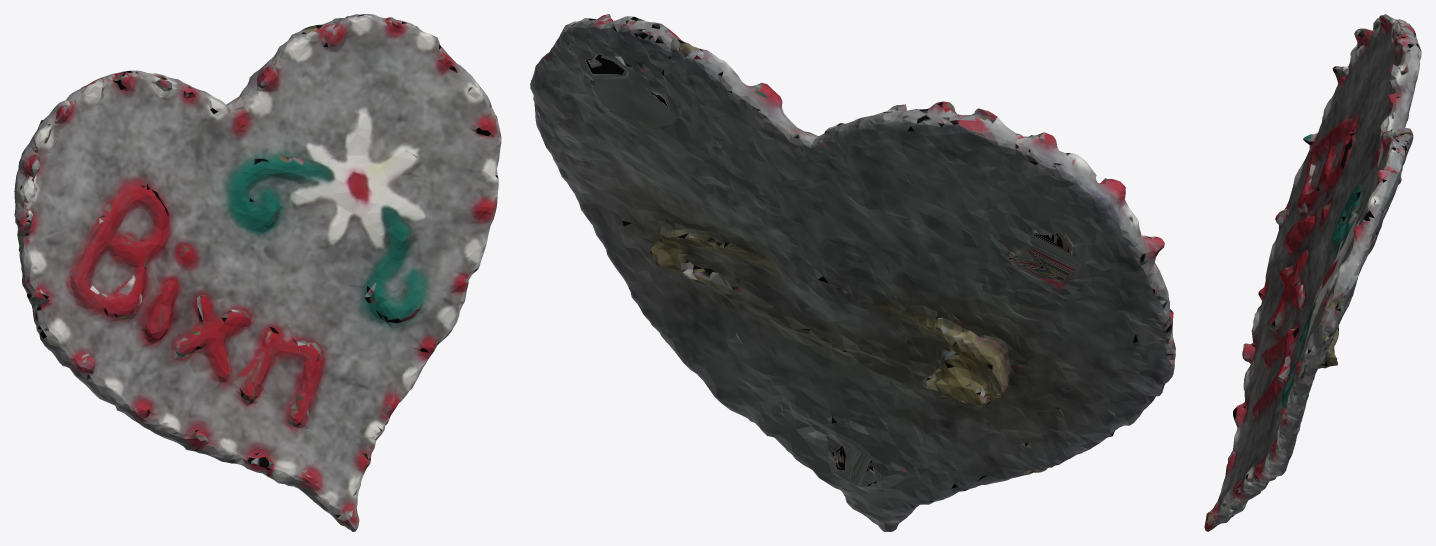
File: D245F8C1-1FE3-3545-A86A-FEE1E8B29CF0_2k.glb
3 renders of one model, left to right at view 1: azimuth 30°, elevation 25°; view 2: azimuth 150°, elevation 25°; view 3: azimuth 270°, elevation 25°, orthographic. The views are drawn at different scales.
Visible parts, largest first — view 1: Filzherz_2k; view 2: Filzherz_2k; view 3: Filzherz_2k.
Boxes of the visible parts, x1,y1,x2,y2 form: Filzherz_2k: (14, 14, 501, 531); Filzherz_2k: (530, 14, 1175, 531); Filzherz_2k: (1204, 14, 1421, 531).
Bounding box in the file's own units: 0.0691 × 0.0592 × 0.027.
1 material, 1 textured.
